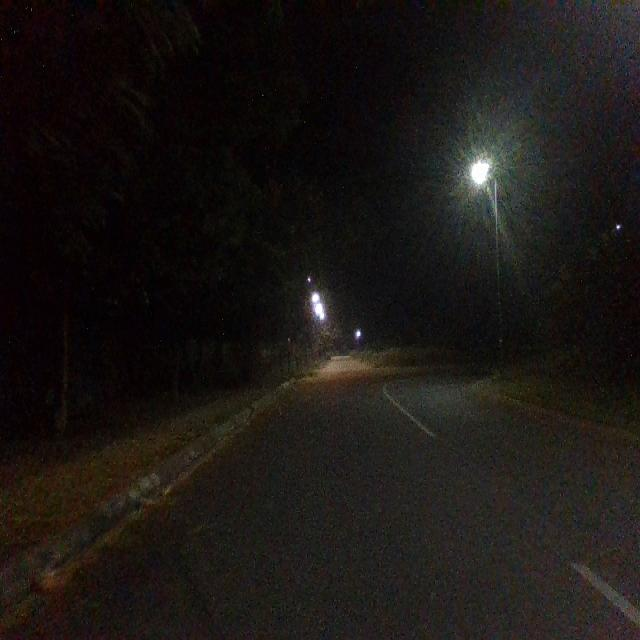lane: (0, 365, 640, 640)
